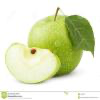Apple leaf: (63, 13, 97, 59)
